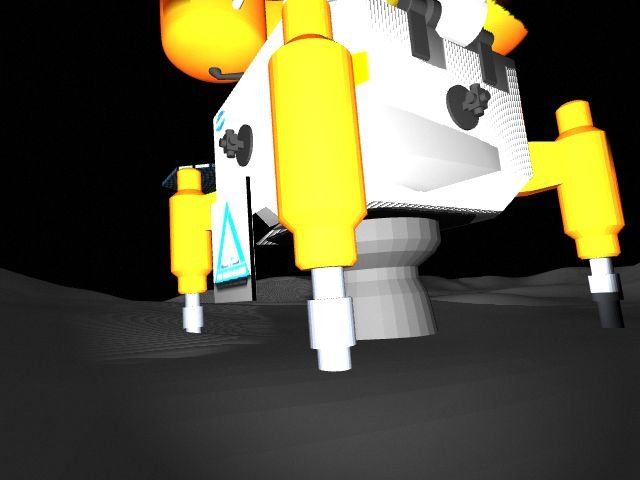basemarker: (212, 202, 251, 283)
